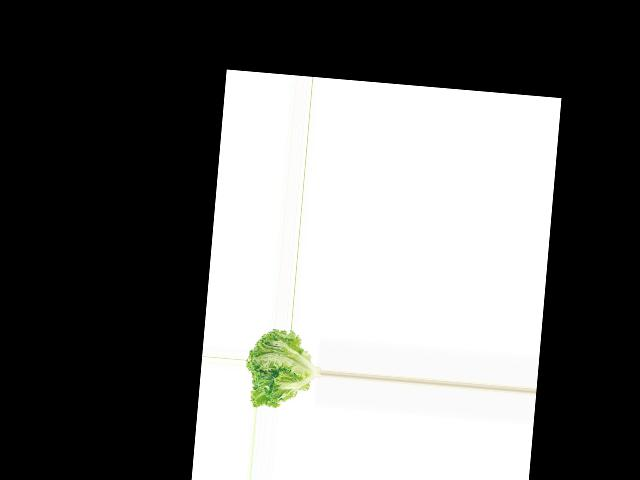lettuce: (243, 326, 324, 412)
